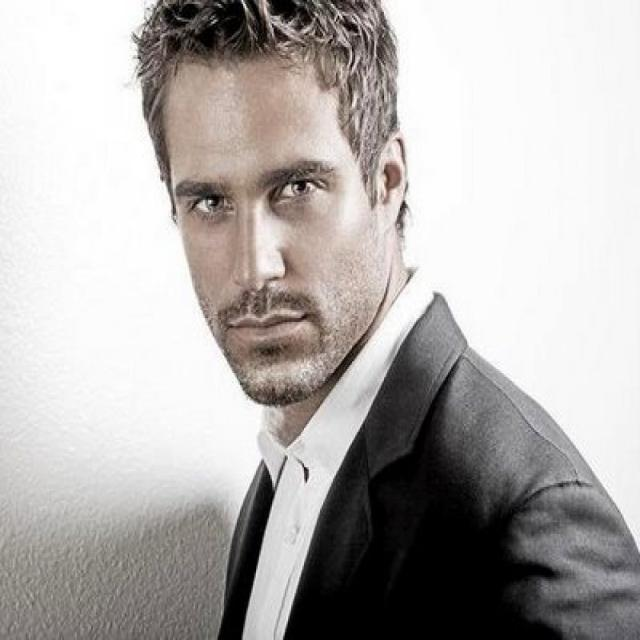human: (122, 1, 640, 638)
